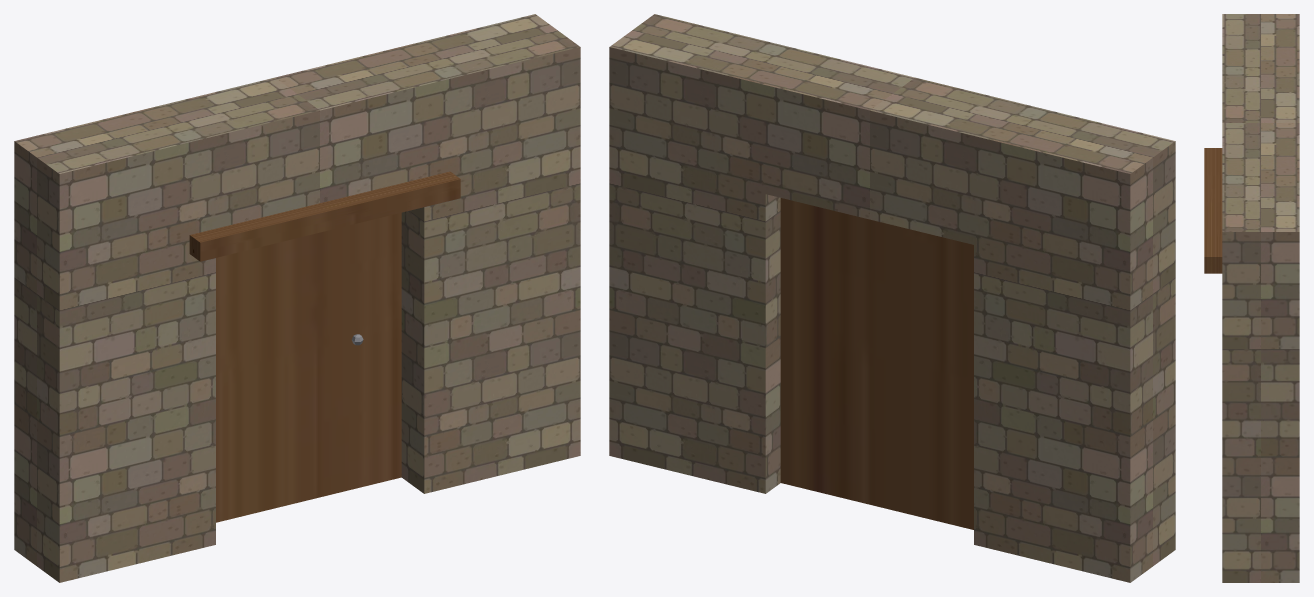
Rendered from wall_door_4m.glb.
3 renders of one model, left to right at view 1: azimuth 30°, elevation 25°; view 2: azimuth 150°, elevation 25°; view 3: azimuth 270°, elevation 25°, orthographic. The views are drawn at different scales.
Parts seen in each view (by area): view 1: Wall_Door_4m; view 2: Wall_Door_4m; view 3: Wall_Door_4m.
Boxes of the visible parts, x1=… form: Wall_Door_4m: x1=14, y1=14, x2=580, y2=582; Wall_Door_4m: x1=609, y1=14, x2=1175, y2=582; Wall_Door_4m: x1=1204, y1=14, x2=1299, y2=582.
Size of the model in its own units: 4 by 3 by 0.7398.
Materials: 3 (2 with a texture image).
